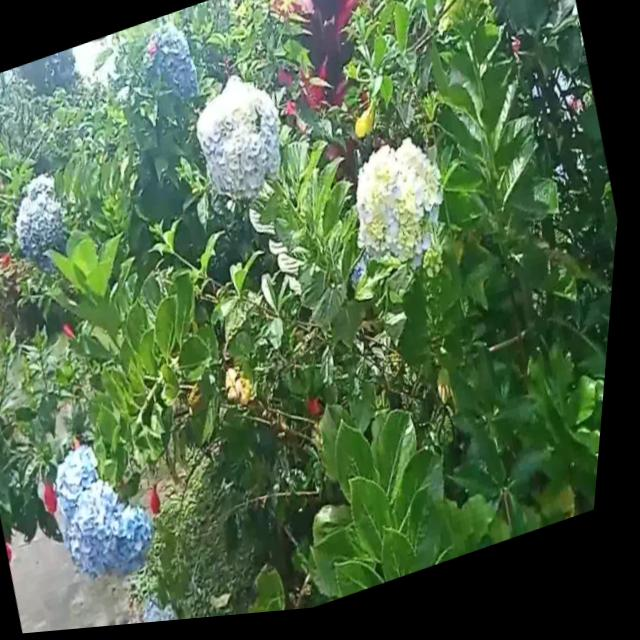Flower: (331, 123, 473, 310), (46, 423, 179, 595), (180, 61, 304, 220), (0, 161, 85, 279), (136, 15, 205, 109), (148, 592, 197, 627), (154, 487, 174, 519), (0, 367, 12, 405)
